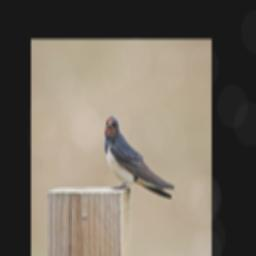Swallow: (103, 113, 197, 212)
